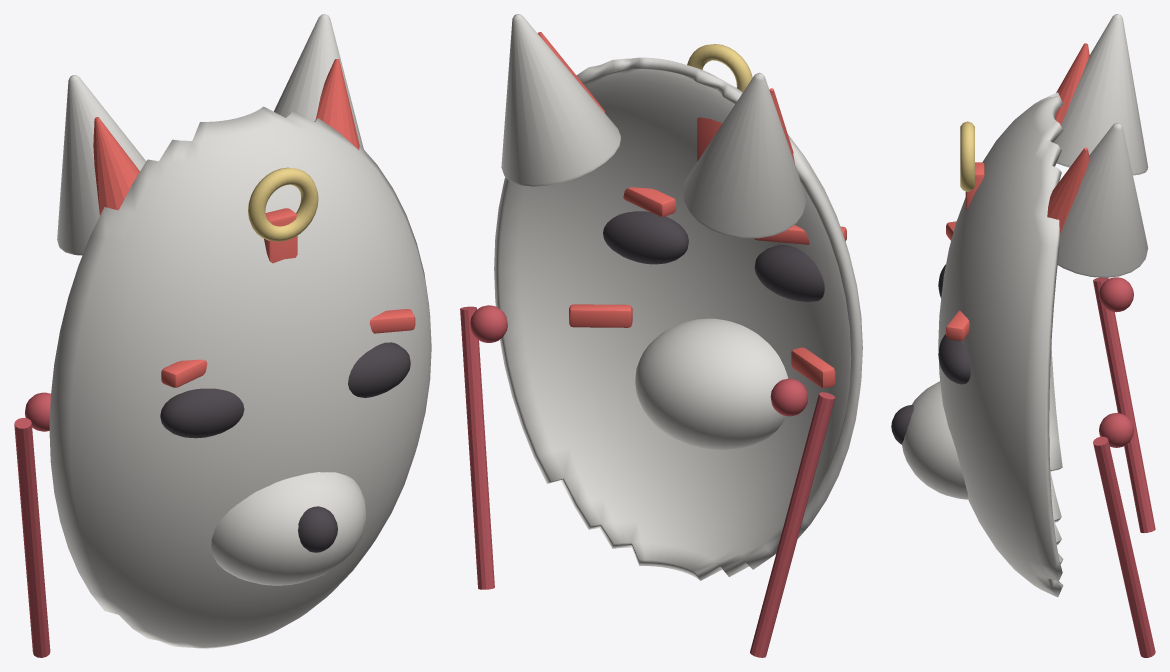
The model's file is fox_mask.glb.
3 renders of one model, left to right at view 1: azimuth 30°, elevation 25°; view 2: azimuth 150°, elevation 25°; view 3: azimuth 270°, elevation 25°, orthographic. The views are drawn at different scales.
Visible parts, largest first — view 1: FoxMask_Plate, FoxMask_Muzzle, FoxMask_Ear_-1, FoxMask_Cord_-1, FoxMask_Ear_1, FoxMask_EyeHole_-1, FoxMask_ForeheadSeal, FoxMask_EarInner_-1, FoxMask_EyeHole_1, FoxMask_EarInner_1, FoxMask_Nose, FoxMask_Crest (+3 smaller); view 2: FoxMask_Plate, FoxMask_Muzzle, FoxMask_Ear_1, FoxMask_Ear_-1, FoxMask_Cord_1, FoxMask_Cord_-1, FoxMask_EyeHole_1, FoxMask_EyeHole_-1, FoxMask_CheekMark_1, FoxMask_ForeheadSeal, FoxMask_CheekMark_-1, FoxMask_CordKnot_-1 (+4 smaller); view 3: FoxMask_Plate, FoxMask_Ear_1, FoxMask_Ear_-1, FoxMask_Muzzle, FoxMask_Cord_1, FoxMask_Cord_-1, FoxMask_EarInner_1, FoxMask_EyeHole_1, FoxMask_EarInner_-1, FoxMask_ForeheadSeal, FoxMask_CordKnot_-1, FoxMask_CordKnot_1 (+2 smaller).
Part boxes in pixels (x1,y1,x2,y2): FoxMask_Plate: (49, 106, 431, 648); FoxMask_Muzzle: (211, 472, 366, 585); FoxMask_Ear_-1: (57, 75, 146, 255); FoxMask_Cord_-1: (14, 418, 50, 657); FoxMask_Ear_1: (274, 14, 363, 148); FoxMask_EyeHole_-1: (160, 388, 244, 438); FoxMask_ForeheadSeal: (248, 167, 318, 241); FoxMask_EarInner_-1: (93, 117, 139, 215); FoxMask_EyeHole_1: (348, 342, 410, 397); FoxMask_EarInner_1: (315, 59, 359, 149); FoxMask_Nose: (298, 506, 337, 552); FoxMask_Crest: (264, 208, 297, 263); FoxMask_Plate: (494, 57, 862, 580); FoxMask_Muzzle: (635, 318, 788, 450); FoxMask_Ear_1: (501, 14, 620, 186); FoxMask_Ear_-1: (682, 72, 805, 238); FoxMask_Cord_1: (460, 306, 494, 589); FoxMask_Cord_-1: (750, 392, 835, 657); FoxMask_EyeHole_1: (603, 211, 688, 264); FoxMask_EyeHole_-1: (754, 245, 824, 301); FoxMask_CheekMark_1: (569, 304, 632, 327); FoxMask_ForeheadSeal: (687, 44, 752, 91); FoxMask_CheekMark_-1: (791, 347, 835, 388); FoxMask_CordKnot_-1: (770, 378, 808, 416); FoxMask_Plate: (938, 92, 1063, 597); FoxMask_Ear_1: (1057, 122, 1148, 277); FoxMask_Ear_-1: (1053, 14, 1148, 175); FoxMask_Muzzle: (902, 381, 968, 499); FoxMask_Cord_1: (1093, 436, 1155, 657); FoxMask_Cord_-1: (1093, 277, 1155, 532); FoxMask_EarInner_1: (1047, 147, 1089, 233); FoxMask_EyeHole_1: (938, 334, 970, 384); FoxMask_EarInner_-1: (1055, 43, 1089, 125); FoxMask_ForeheadSeal: (960, 121, 974, 191); FoxMask_CordKnot_-1: (1099, 277, 1133, 312); FoxMask_CordKnot_1: (1099, 413, 1133, 447).
Bounding box in the file's own units: 0.2036 × 0.2958 × 0.135.
